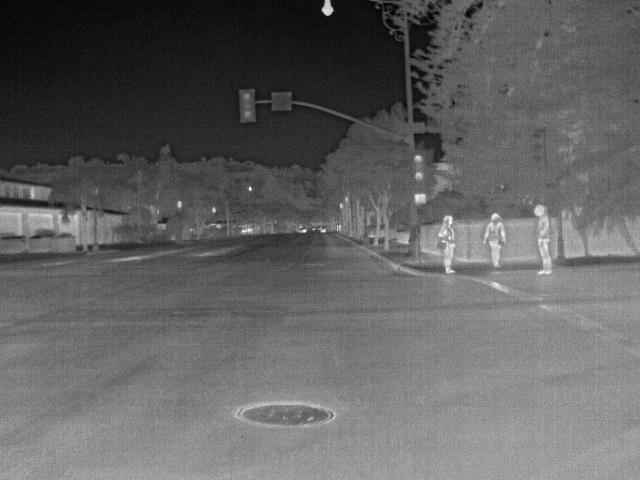person: (483, 209, 510, 268), (532, 205, 554, 276), (437, 212, 459, 276)
